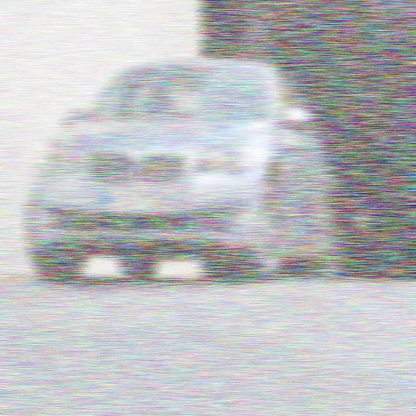Vehicle: (26, 56, 340, 283)
